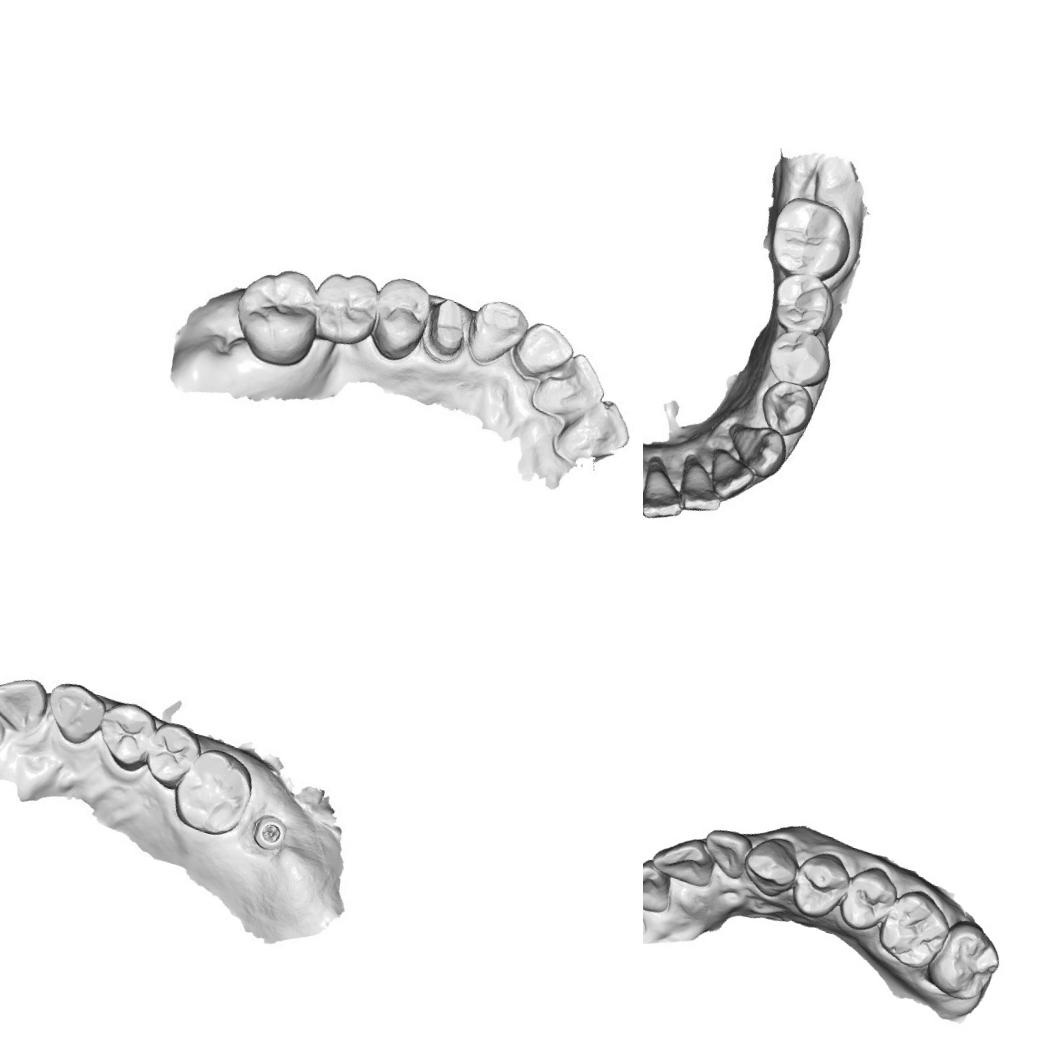canine: (462, 296, 530, 374), (737, 829, 804, 902), (42, 678, 108, 748), (719, 418, 790, 478)
crown: (418, 292, 473, 362)
implant: (244, 808, 293, 859)
incisor: (548, 388, 636, 473), (530, 344, 615, 424), (646, 828, 720, 890), (510, 318, 576, 386), (0, 667, 51, 741), (674, 456, 730, 518), (643, 457, 691, 527), (704, 448, 760, 506), (696, 824, 752, 880), (643, 851, 677, 915)
molar: (227, 260, 333, 373), (762, 188, 858, 287), (921, 914, 1008, 1006), (170, 745, 256, 837), (871, 881, 956, 974)
premolar: (302, 265, 384, 351), (366, 272, 433, 363), (833, 858, 903, 938), (786, 845, 854, 924), (767, 268, 839, 340), (763, 326, 836, 390), (751, 374, 819, 442), (94, 700, 155, 769), (142, 721, 198, 785)
